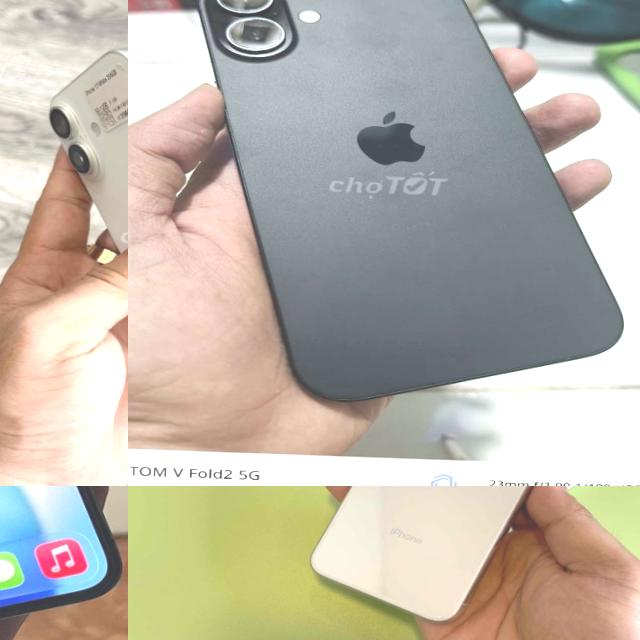gen_12_13: (0, 486, 128, 640)
gen_16: (200, 0, 621, 400)
gen_17: (19, 37, 128, 407)
gen_x_xs: (311, 486, 532, 621)
